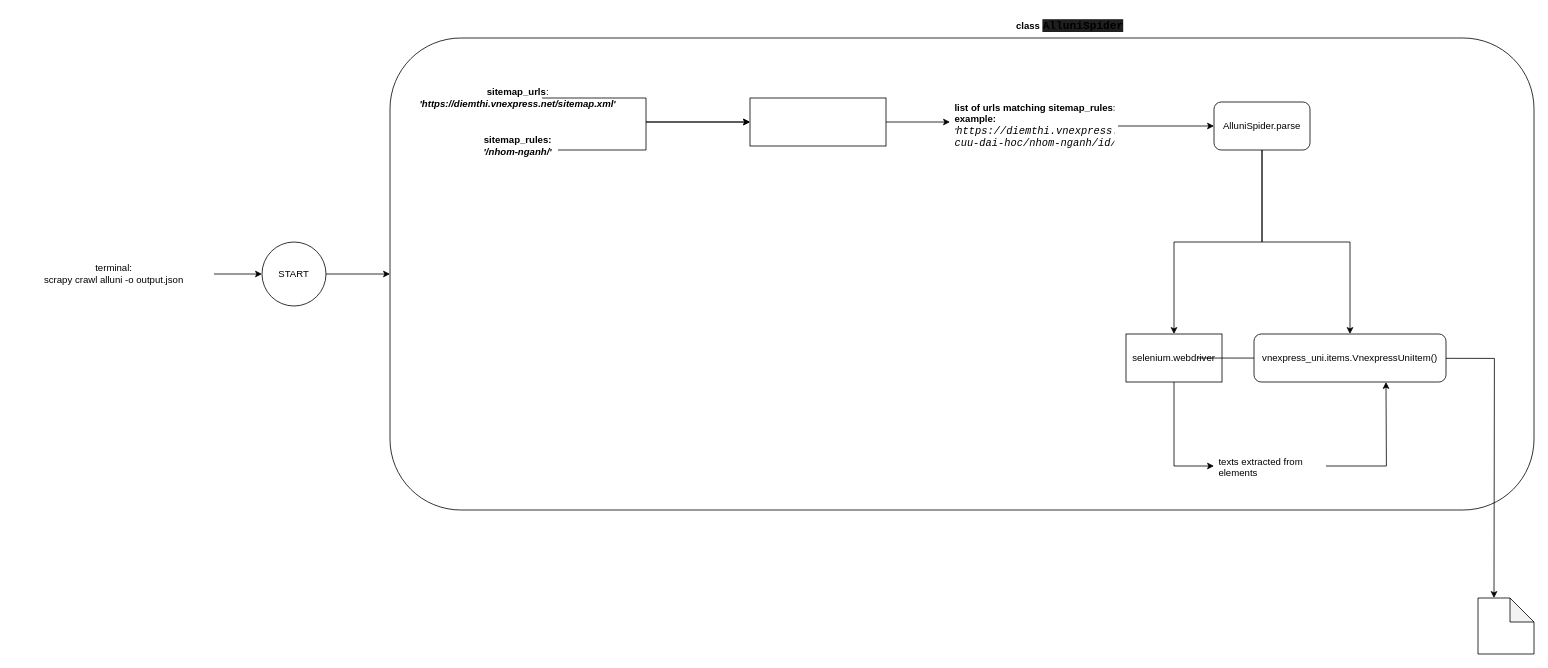
Some shapes in this 1548 by 668 pixel diagram are drawn without their labels. The shapes that lost their labels are listed below. From the top down, each one's centre as x and y in pixels, then its label:
At point 817,121: "scrapy.spider.SitemapSider".
At point 1505,625: "output.json".
